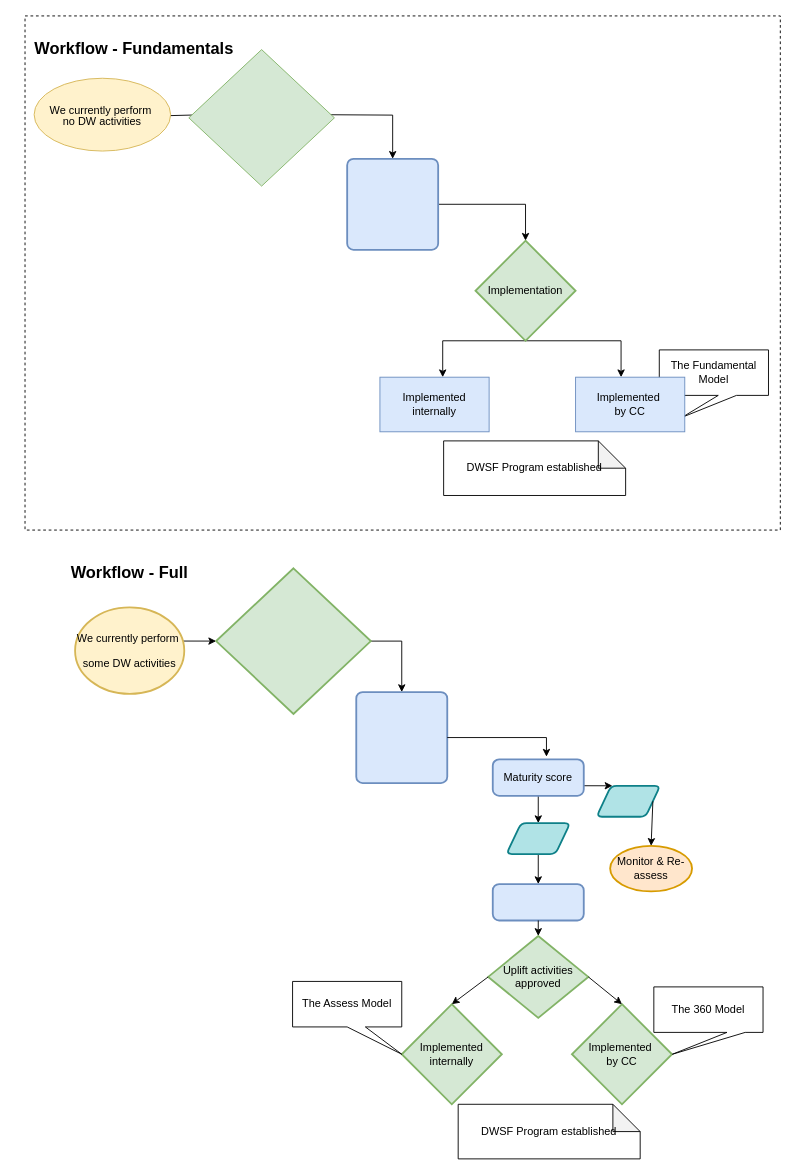
The diagram is 796 pixels wide and 1175 high, and some of its shapes have lost their labels. The shapes that lost their labels are listed below. From the top down, each one's centre as x and y in pixels, then its label:
[261,117]: Our seniors are supportive to establish a DW program
[392,203]: CC provides the outline of a structured DW program
[293,640]: Our seniors are supportive of assessing our DW maturity
[401,737]: DW Assessment performed against each DWSF Function
[628,800]: Score 3
[538,838]: Score <2
[537,902]: Prioritised uplift roadmap
